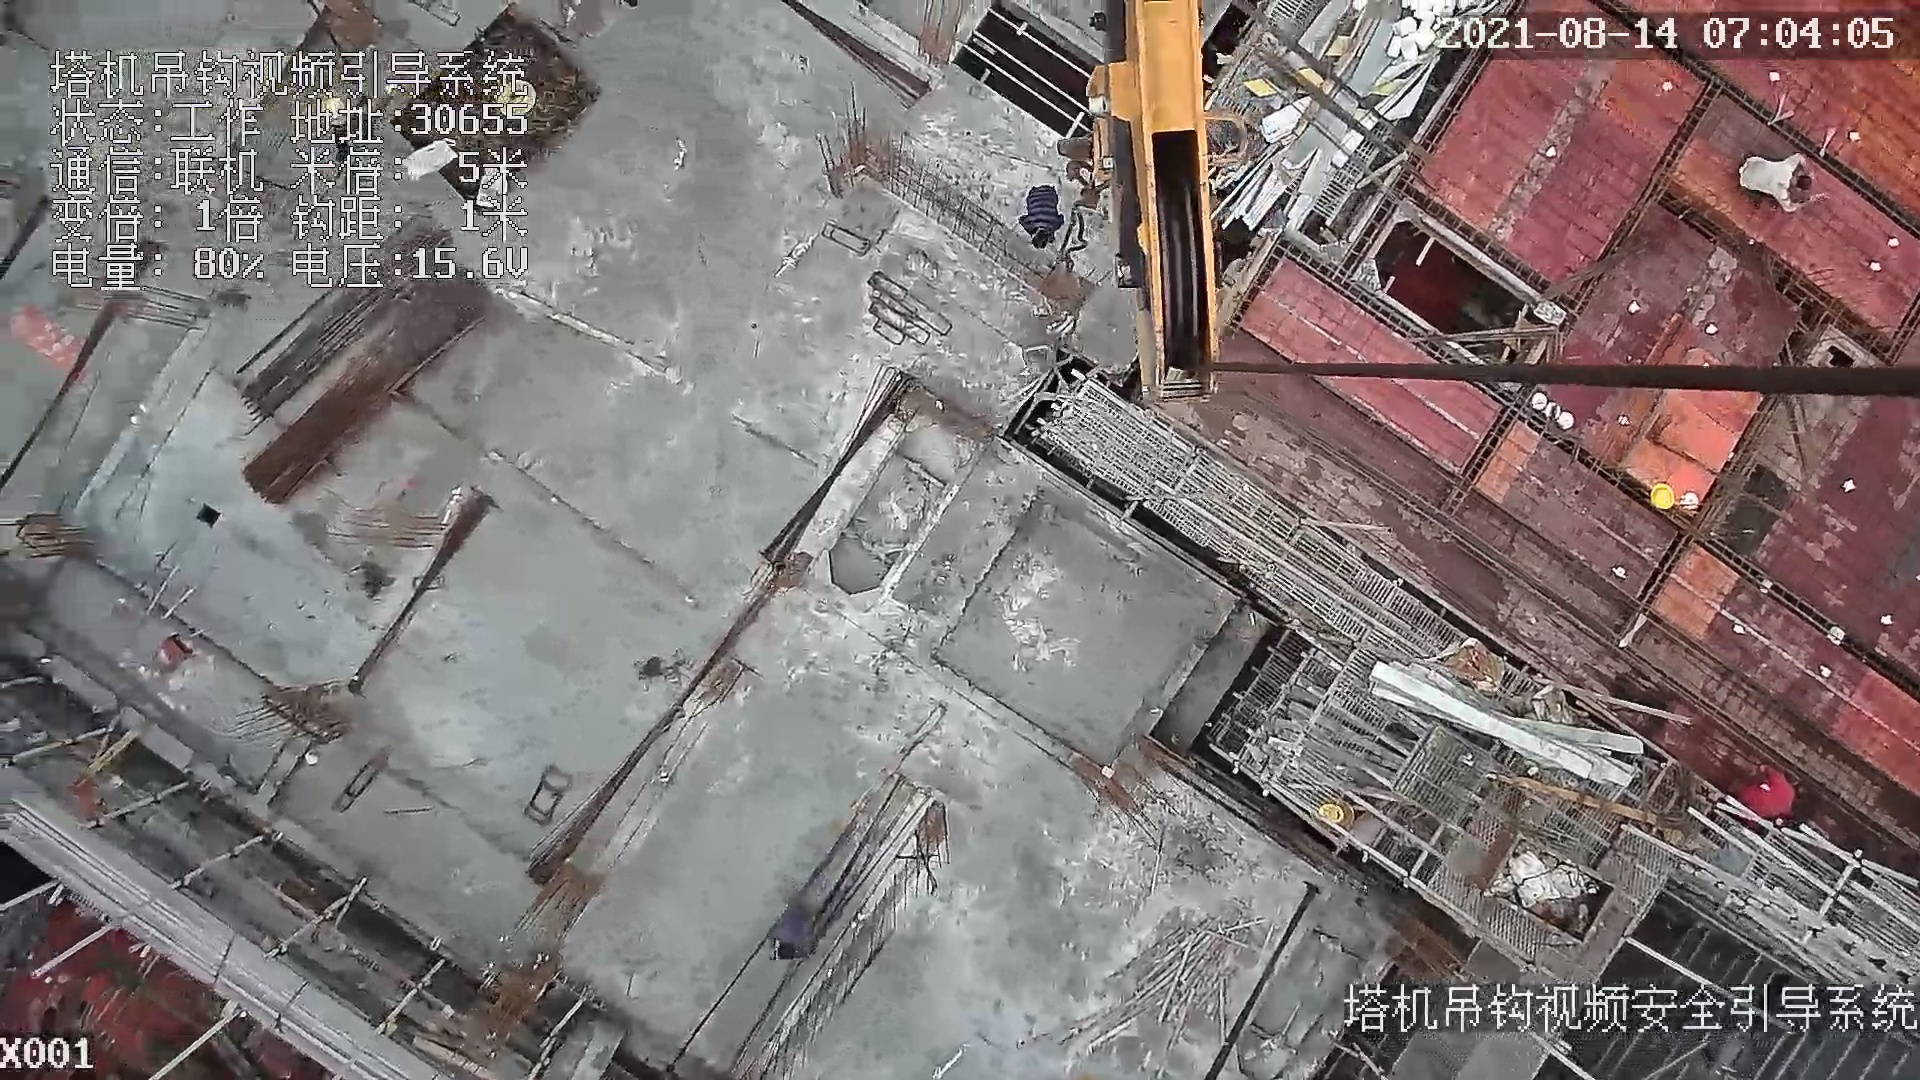helmet: (1649, 479, 1677, 514)
hook: (1069, 1, 1227, 408)
person: (1729, 145, 1832, 222), (1731, 759, 1824, 822), (769, 898, 825, 964), (1015, 180, 1065, 250)
